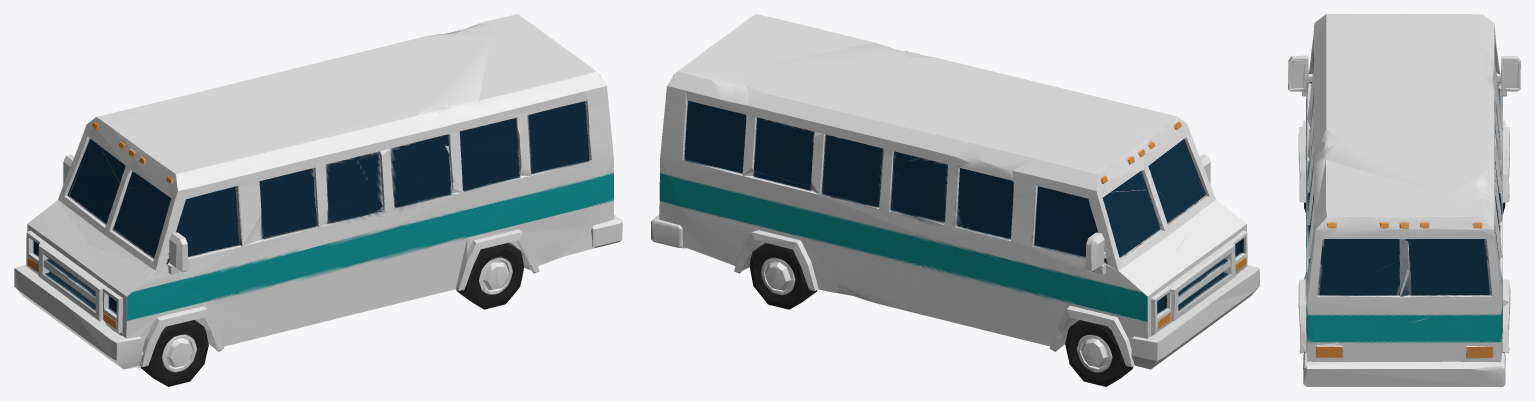
Rendered from minibus.glb.
The picture shows the model from 3 angles, left to right: view 1: azimuth 30°, elevation 25°; view 2: azimuth 150°, elevation 25°; view 3: azimuth 270°, elevation 25°; orthographic projection.
Size of the model in its own units: 1.9 by 0.7174 by 0.7628.
1 material, 1 textured.
